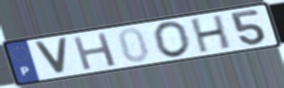0: (116, 26, 153, 65)
5: (227, 9, 268, 47)
H: (70, 30, 119, 72), (189, 13, 233, 55)
O: (152, 19, 193, 60)
V: (31, 37, 70, 75)
